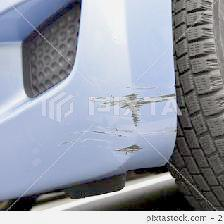bumper_scratch: (52, 82, 187, 166)
